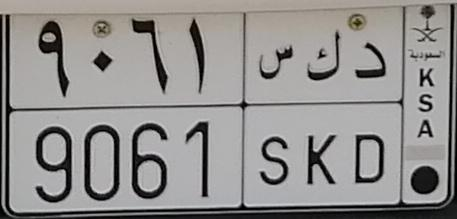0: (83, 50, 124, 201)
1: (182, 17, 211, 198)
6: (130, 17, 173, 200)
9: (32, 19, 76, 203)
D: (353, 41, 387, 186)
K: (305, 29, 341, 185)
S: (258, 42, 294, 187)
